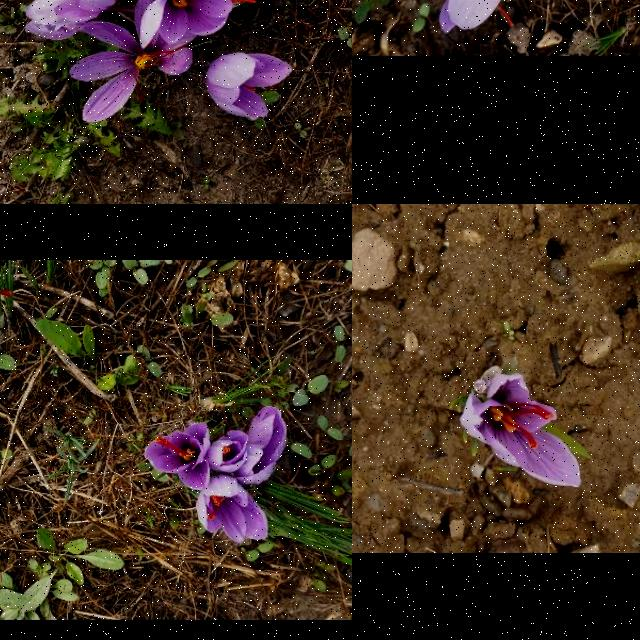flower: (69, 0, 192, 123), (462, 372, 582, 488), (204, 52, 294, 121), (139, 0, 256, 50), (195, 475, 269, 545), (146, 420, 210, 490), (236, 406, 288, 486), (406, 0, 514, 34), (208, 431, 250, 474)
overlap: (24, 0, 227, 40)
